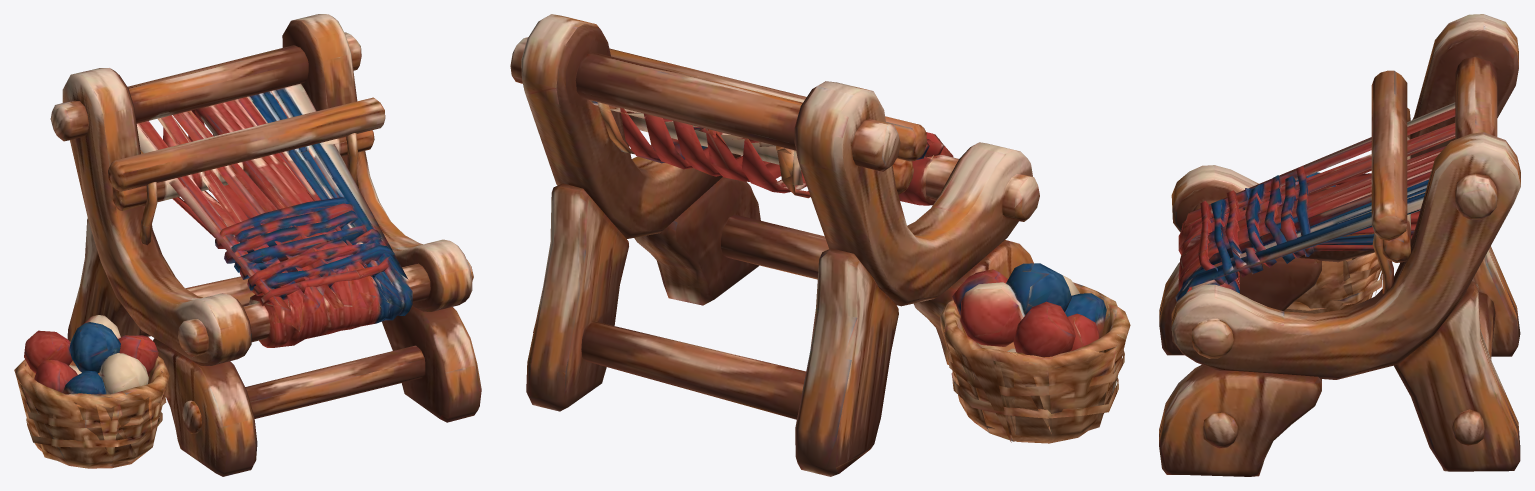
File: loom.glb
The picture shows the model from 3 angles, left to right: view 1: azimuth 30°, elevation 25°; view 2: azimuth 150°, elevation 25°; view 3: azimuth 270°, elevation 25°; orthographic projection. The views are drawn at different scales.
Size of the model in its own units: 1.42 by 1 by 0.9992.
Materials: 1 (1 with a texture image).
